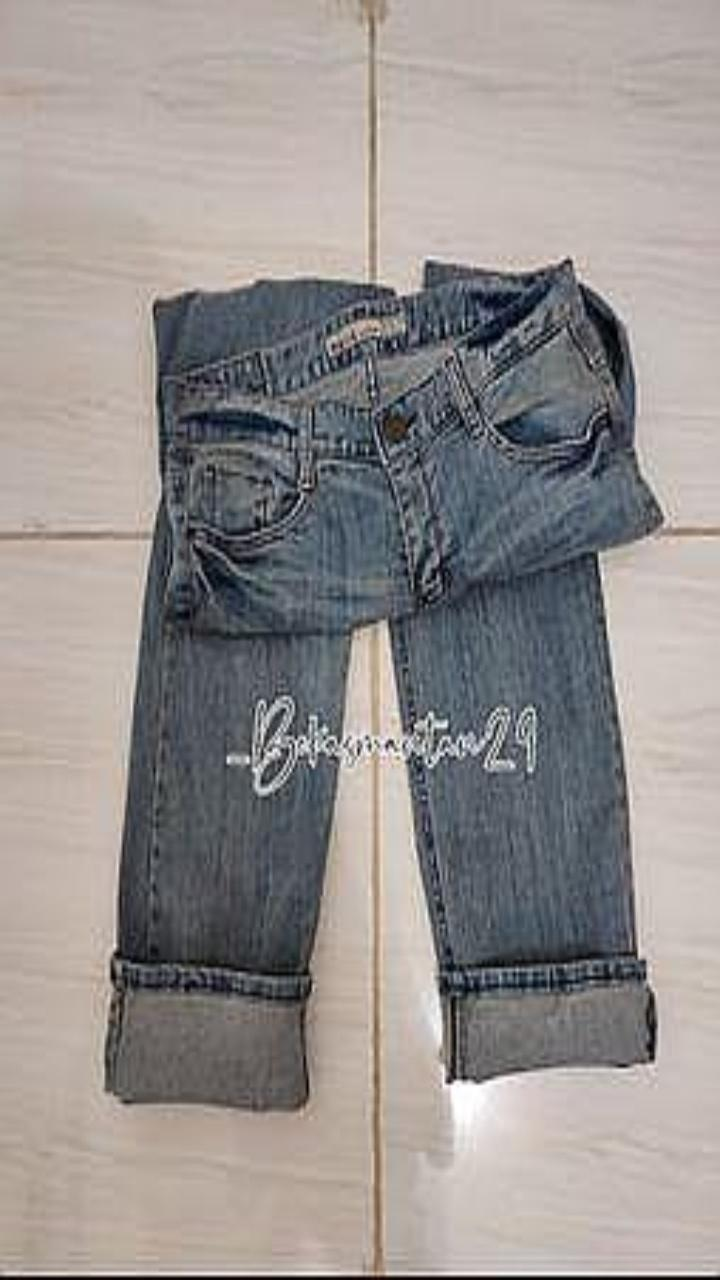Jeans: (106, 258, 662, 1107)
